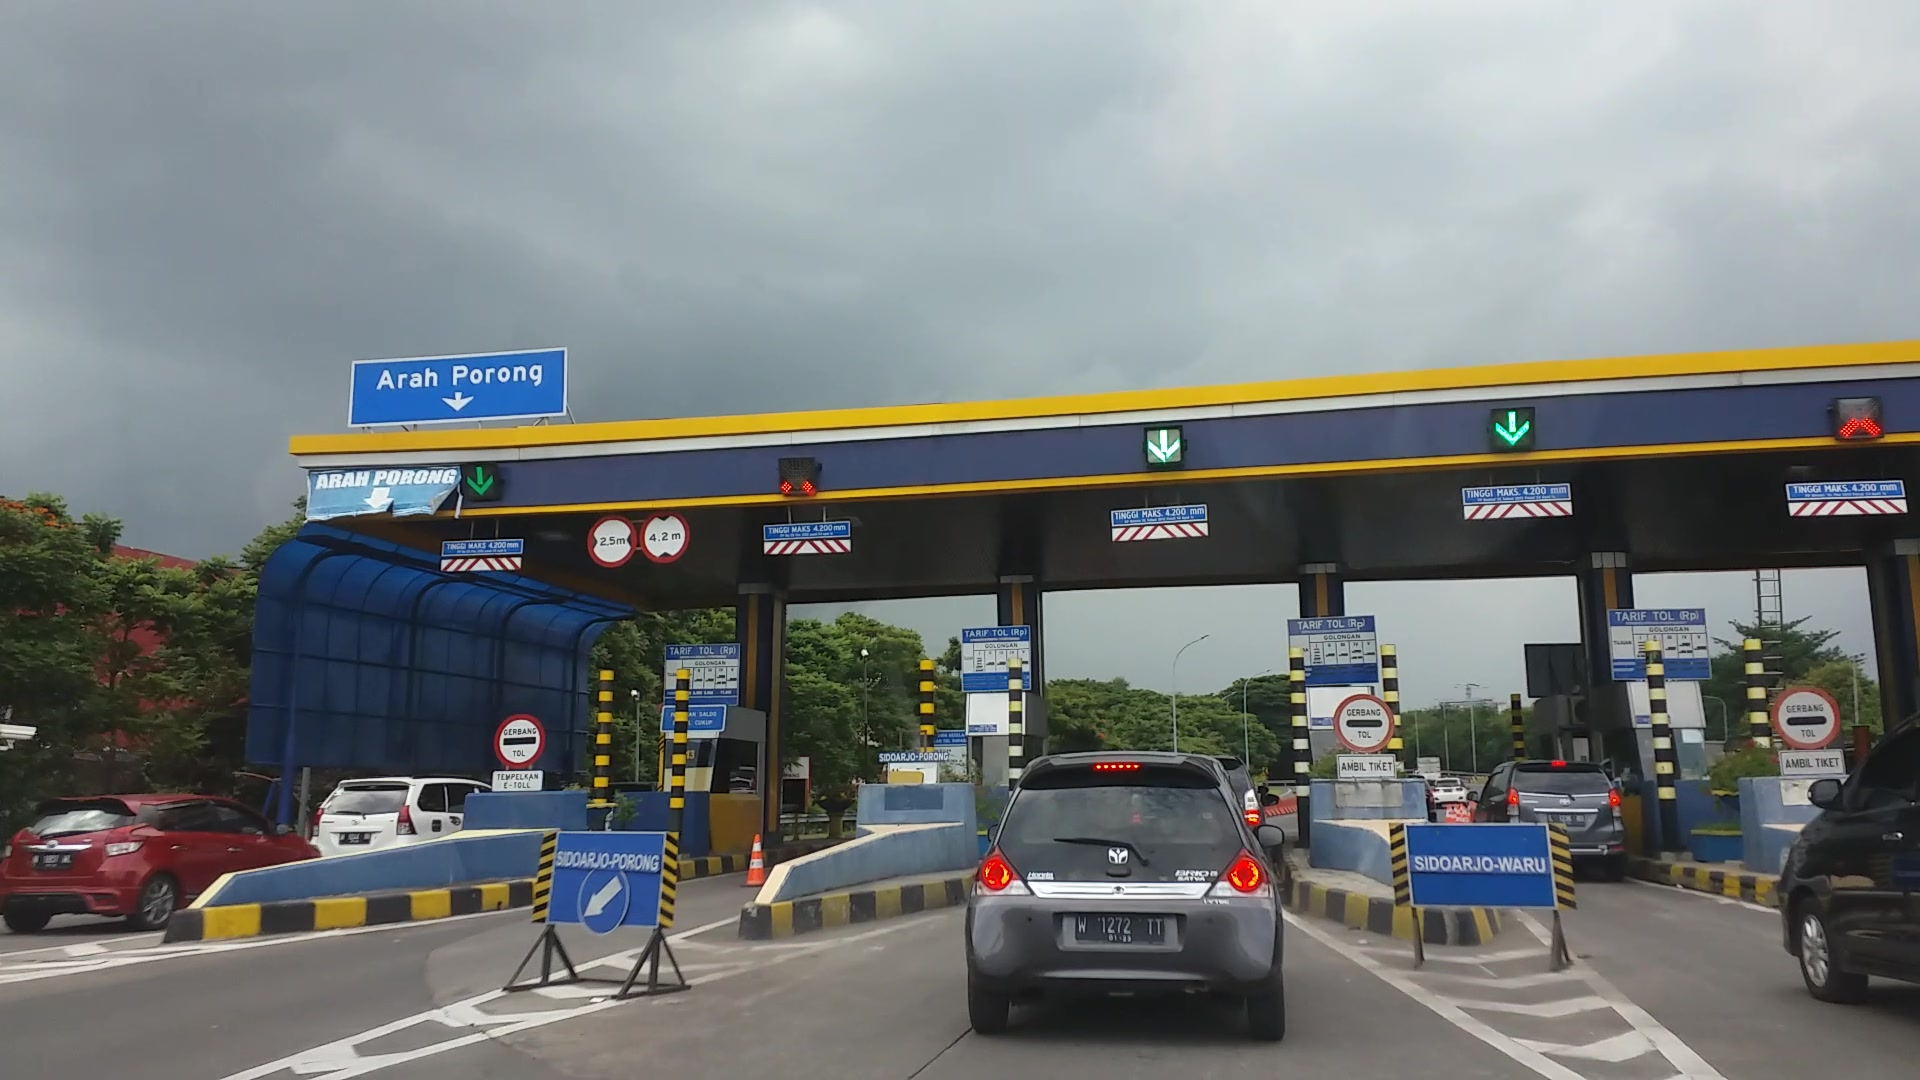plate_positive: (1075, 914, 1164, 945)
